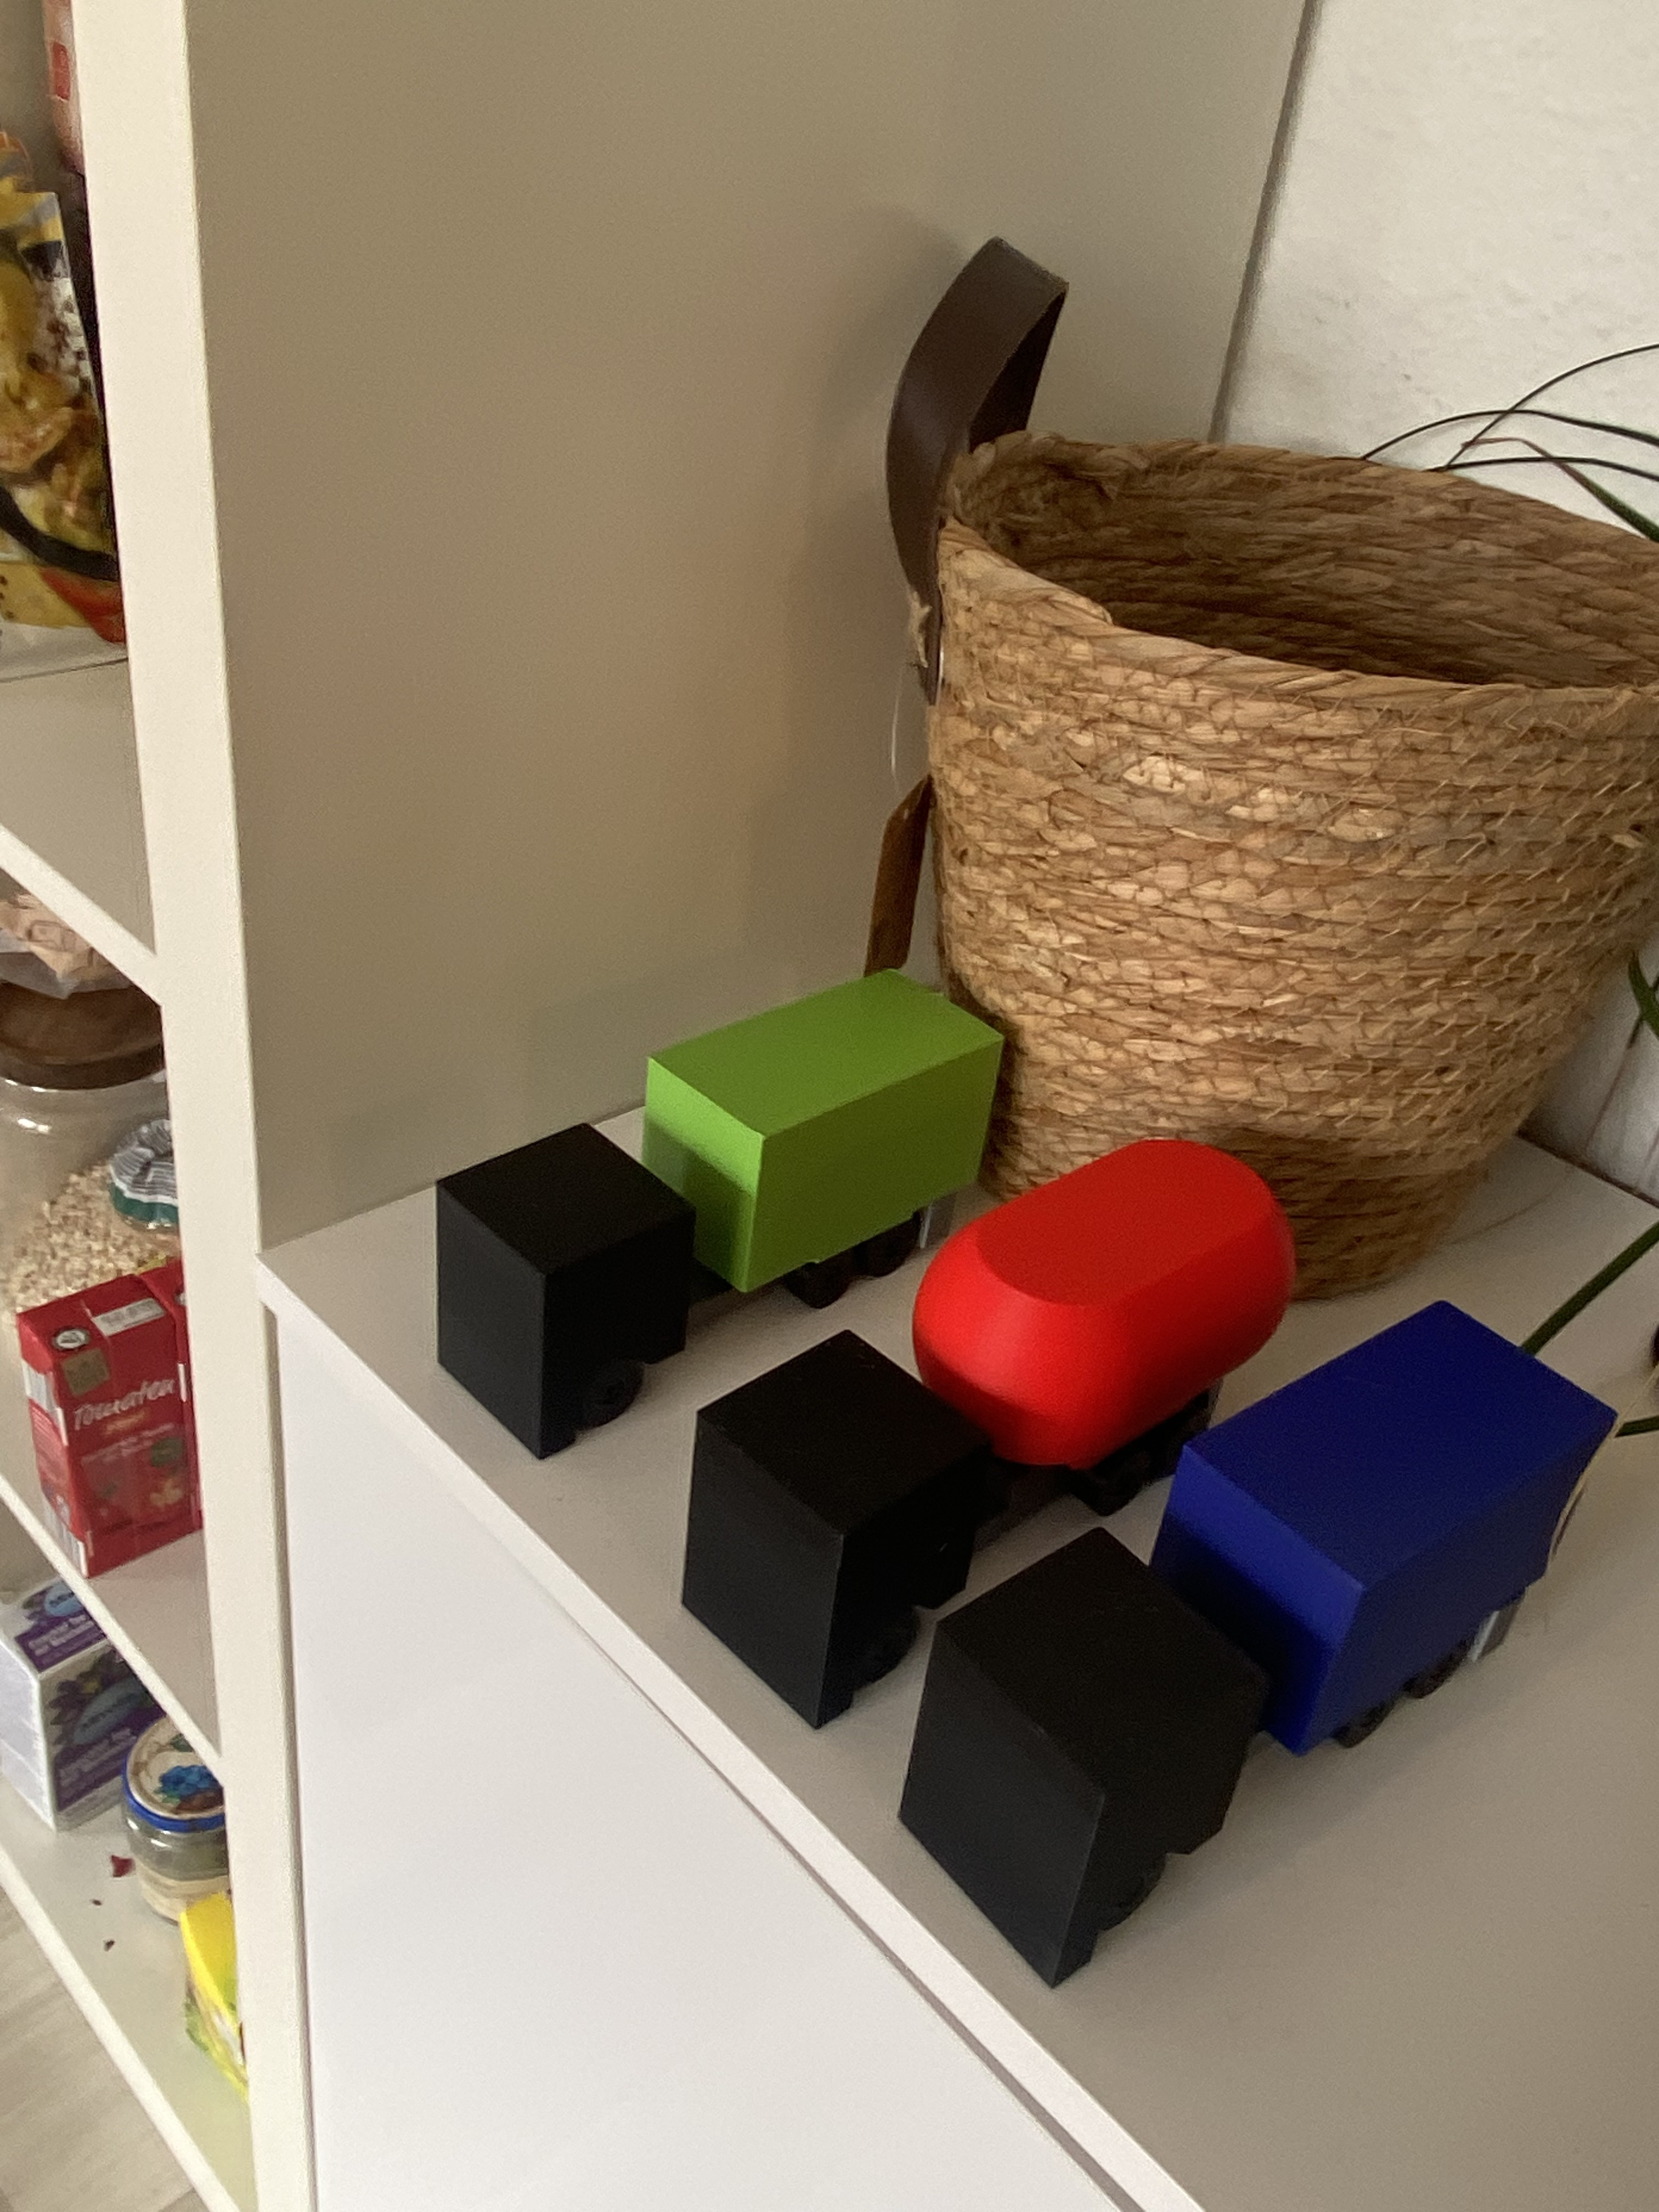blue_truck: (840, 1430, 1657, 1773)
green_truck: (537, 852, 884, 1512)
red_truck: (624, 1240, 1335, 1548)
